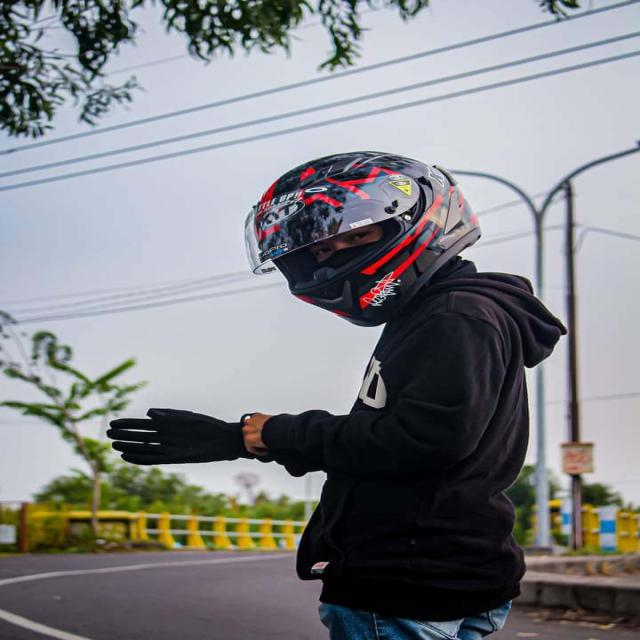Helm: (237, 148, 496, 334)
